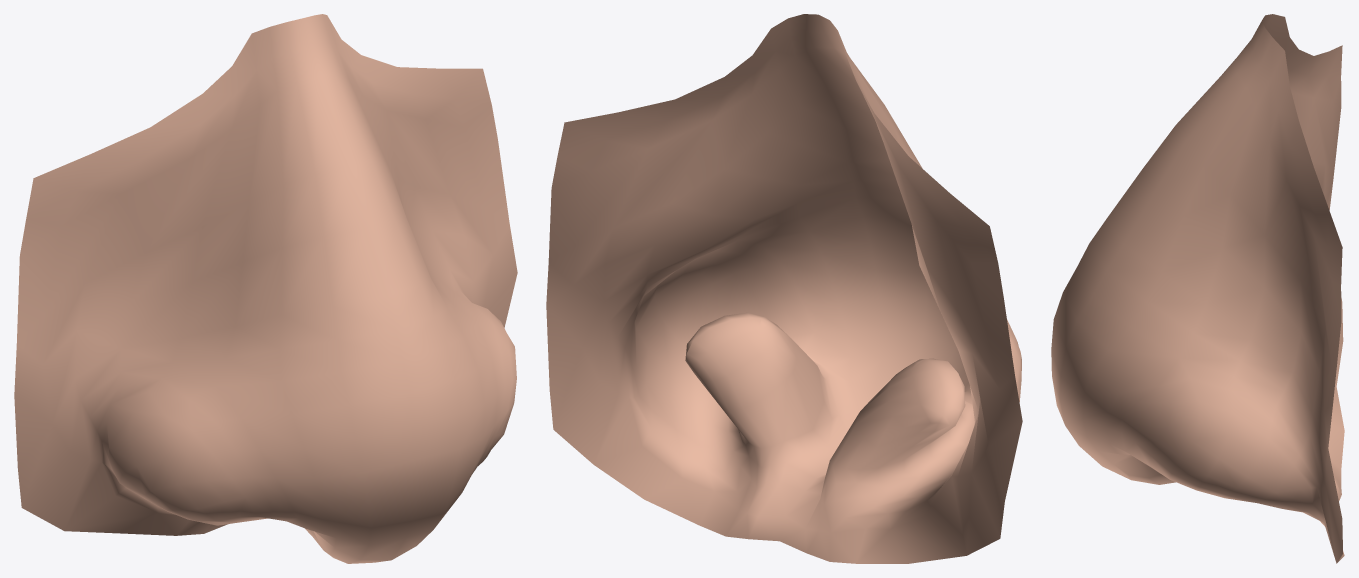
The model's file is Nose 02.glb.
3 views of the same model, side by side, from view 1: azimuth 30°, elevation 25°; view 2: azimuth 150°, elevation 25°; view 3: azimuth 270°, elevation 25° (orthographic). The views are drawn at different scales.
Visible parts, largest first — view 1: nose02; view 2: nose02; view 3: nose02.
Boxes of the visible parts, <box> form: nose02: <box>14,14,517,563</box>; nose02: <box>546,14,1022,563</box>; nose02: <box>1051,14,1344,563</box>.
Size of the model in its own units: 0.000983 by 0.000995 by 0.000539.
